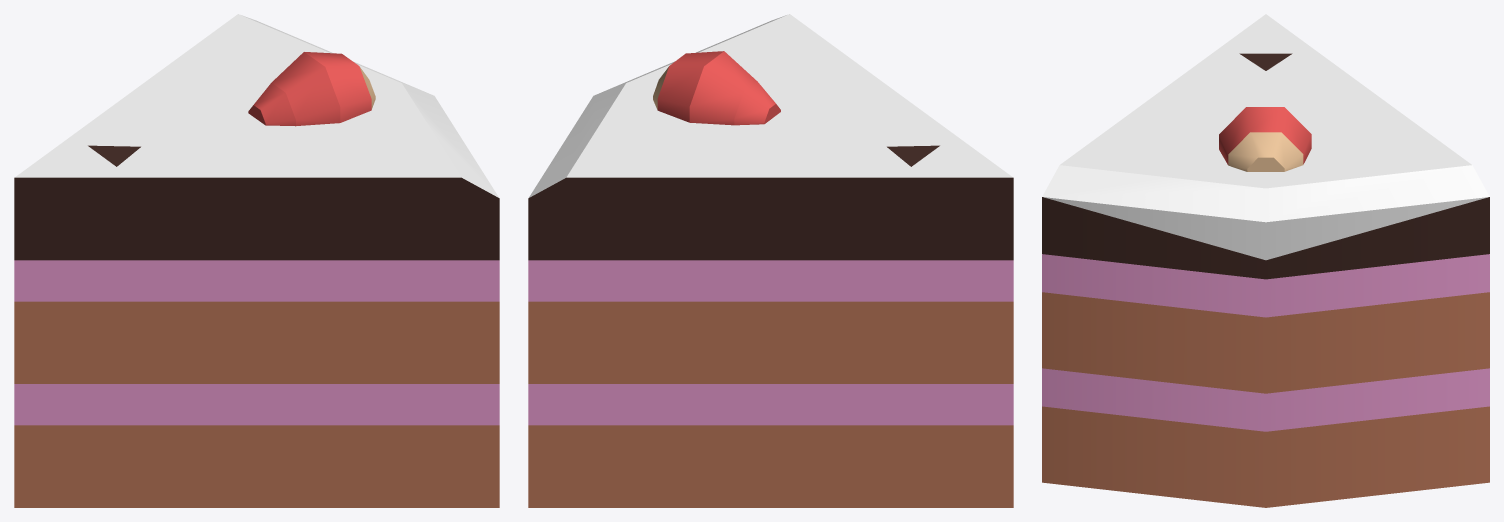
File: cakeSlice.GLB
3 renders of one model, left to right at view 1: azimuth 30°, elevation 25°; view 2: azimuth 150°, elevation 25°; view 3: azimuth 270°, elevation 25°, orthographic. The views are drawn at different scales.
Visible parts, largest first — view 1: cakeSlice; view 2: cakeSlice; view 3: cakeSlice.
Boxes of the visible parts, left/top/right/bottom form: cakeSlice: left=14, top=14, right=499, bottom=507; cakeSlice: left=528, top=14, right=1013, bottom=507; cakeSlice: left=1042, top=14, right=1489, bottom=507.
Size of the model in its own units: 0.3196 by 0.2731 by 0.3196.
